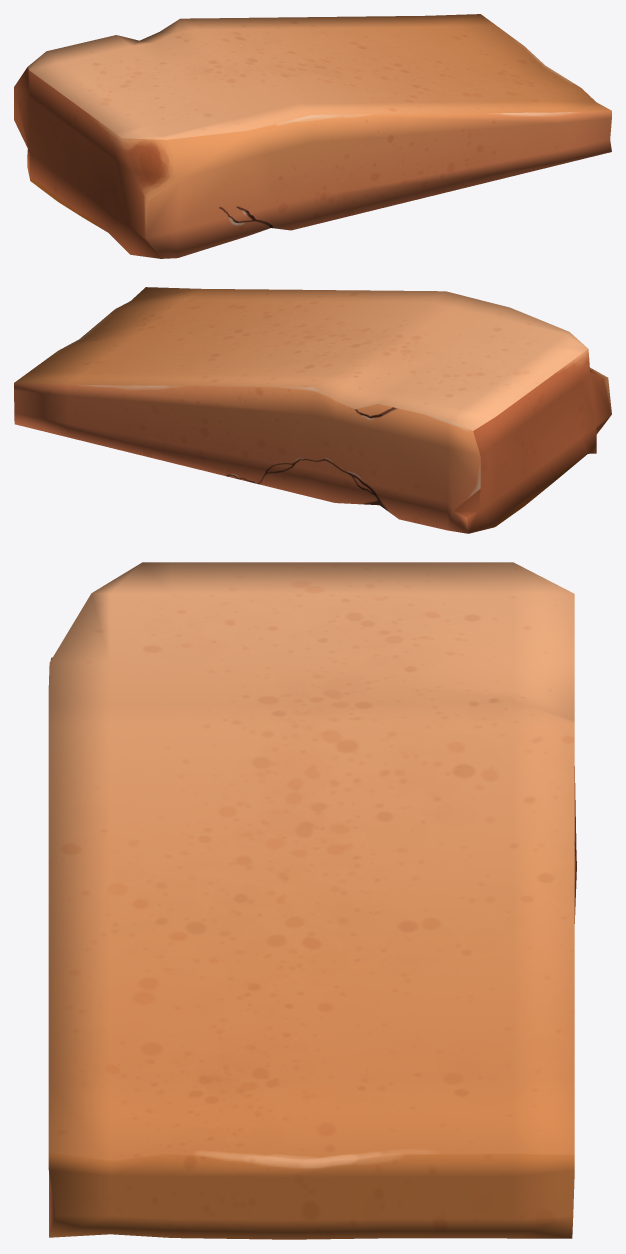
File: platform_slanted_short.fbx
3 views of the same model, one above another, from view 1: azimuth 30°, elevation 25°; view 2: azimuth 150°, elevation 25°; view 3: azimuth 270°, elevation 25° (orthographic). The views are drawn at different scales.
Parts seen in each view (by area): view 1: Cube.008; view 2: Cube.008; view 3: Cube.008.
Part boxes in pixels (x1=…): Cube.008: x1=14, y1=14, x2=611, y2=258; Cube.008: x1=14, y1=287, x2=611, y2=533; Cube.008: x1=48, y1=562, x2=576, y2=1239.
Size of the model in its own units: 393 by 89.51 by 190.
